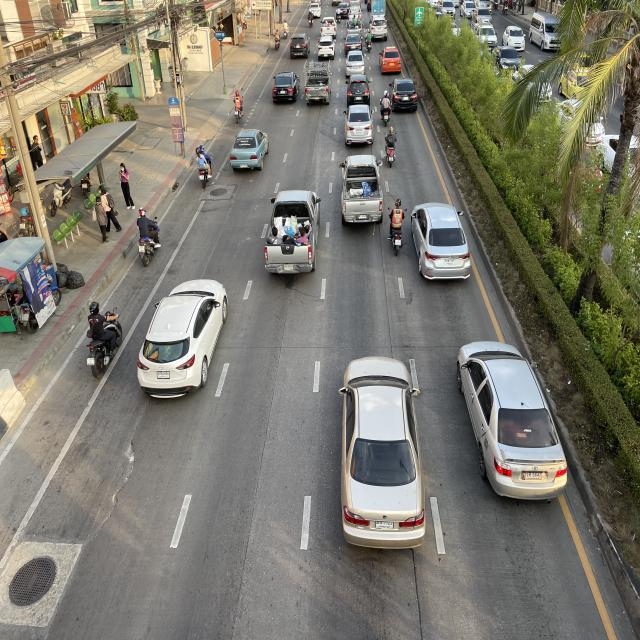bike: (85, 296, 124, 382), (133, 202, 162, 269), (386, 196, 409, 261), (195, 142, 213, 190), (230, 86, 247, 125), (384, 126, 398, 169), (378, 90, 392, 128)
car: (454, 338, 572, 506), (334, 351, 429, 557), (135, 276, 231, 402), (410, 201, 473, 281), (339, 153, 384, 224), (229, 128, 270, 172), (343, 104, 375, 146), (388, 78, 419, 112), (272, 70, 300, 104), (345, 74, 372, 107), (378, 45, 403, 75)
truck: (263, 188, 323, 278), (303, 60, 333, 106)
